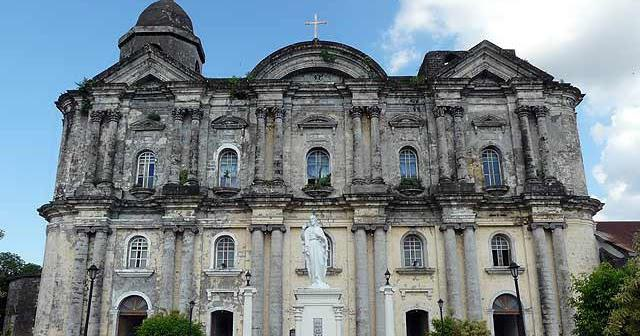taal_basilica_church_taal_batangas: (27, 3, 602, 336)
